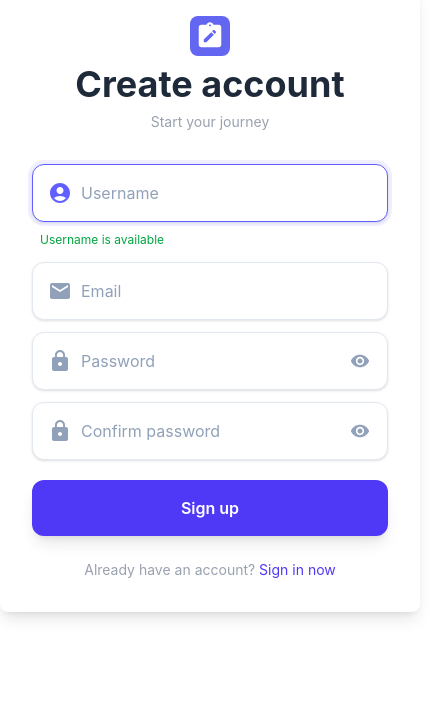
it: RegisterCard › validation: shows error when display_name is shorter than 3 characters
Type "ab" into the field with placeholder "Username" at (210, 193), box x1=32 y1=164 x2=388 y2=222
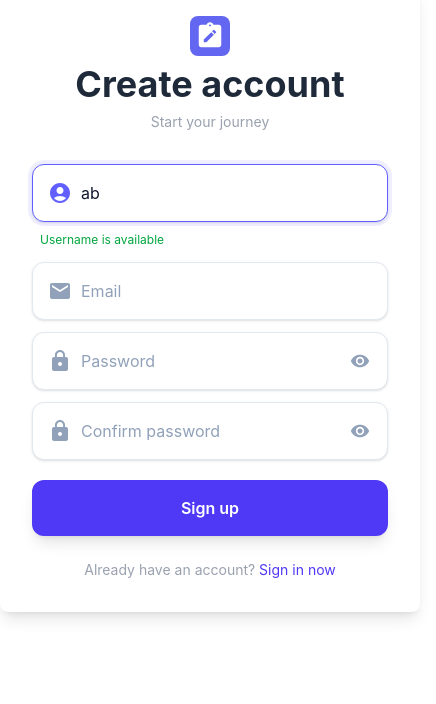
Click the button "Sign up" at (210, 508), box x1=32 y1=480 x2=388 y2=536
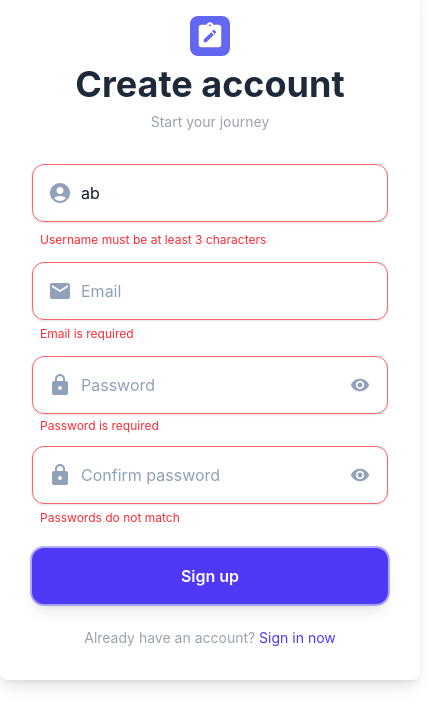
Result: the text "Username must be at least 3 characters" is shown at x1=40 y1=232 x2=266 y2=247
